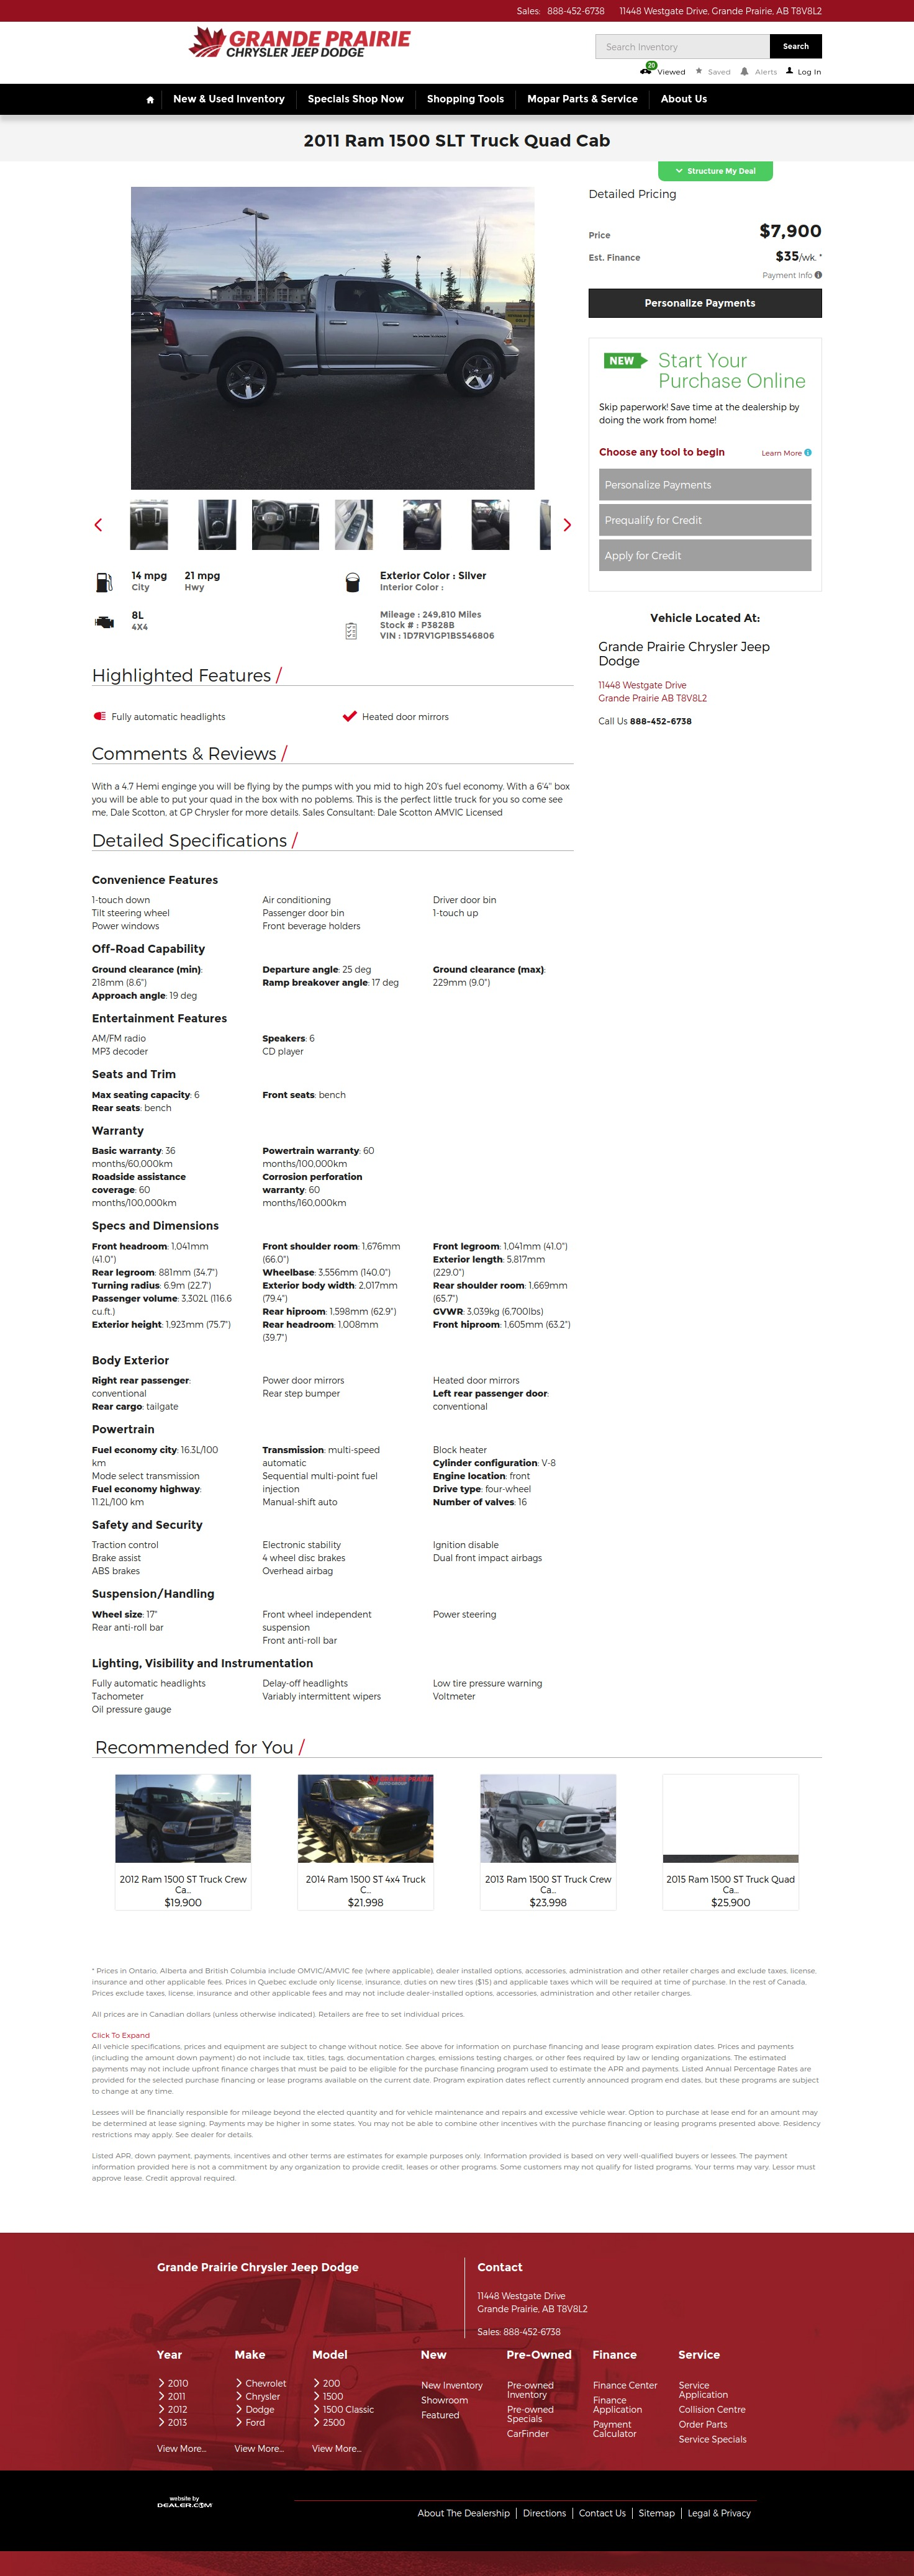car: (564, 519, 572, 532)
